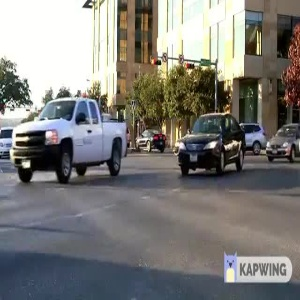car: (169, 107, 249, 180), (257, 121, 300, 162), (133, 123, 168, 153)
truck: (1, 94, 136, 186)
